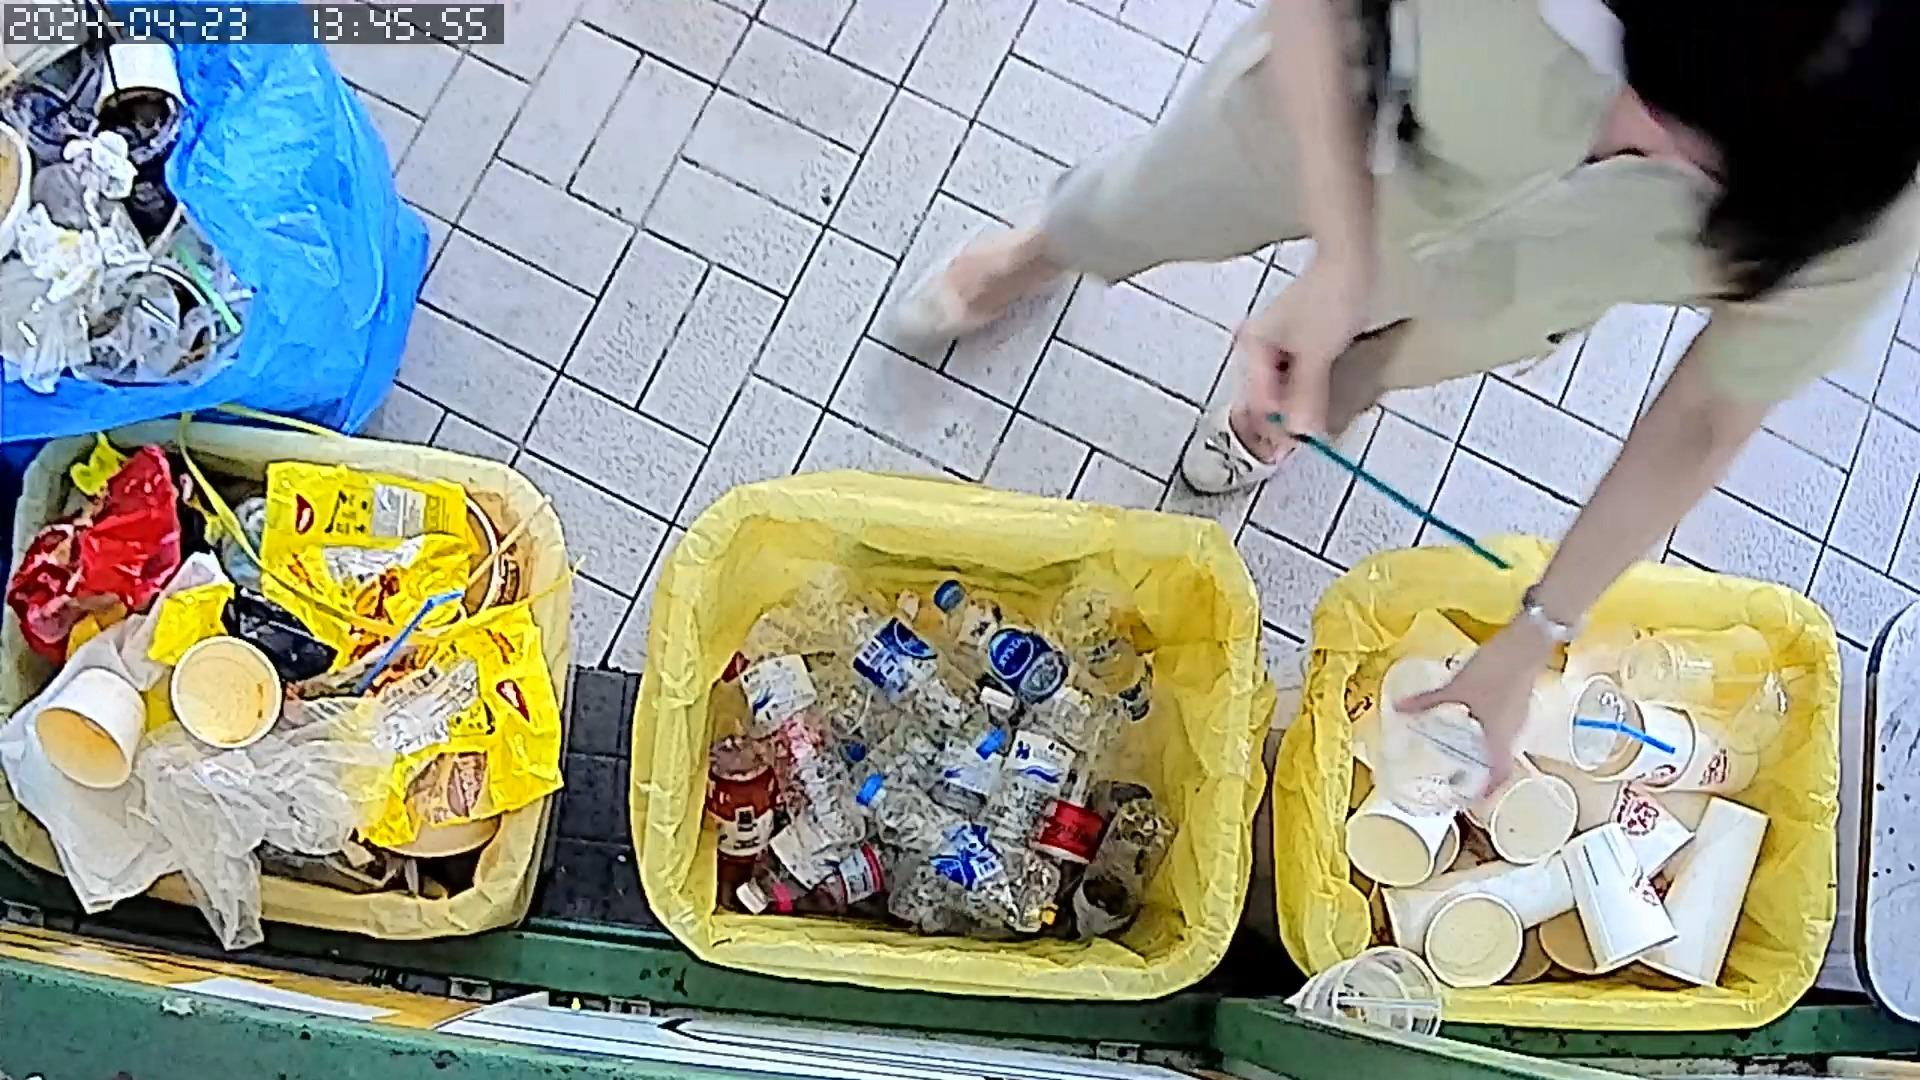can: (703, 735, 779, 876)
food container: (32, 663, 154, 793), (164, 630, 284, 752), (1420, 886, 1527, 989)
plastic bag: (0, 549, 236, 920), (121, 691, 410, 953)
plastic bottle: (778, 553, 1010, 764), (731, 724, 953, 920), (930, 576, 1133, 757), (853, 769, 1064, 938), (951, 676, 1089, 927), (735, 609, 869, 855), (1040, 578, 1156, 729), (1068, 794, 1183, 942)
plastic cup: (1614, 622, 1776, 715), (1712, 667, 1795, 760), (1571, 679, 1638, 778)
snack packaging: (327, 597, 568, 848), (1, 438, 183, 665), (255, 460, 472, 638)
sticks: (471, 488, 555, 587)
straw: (342, 592, 462, 702), (175, 244, 243, 335), (1572, 719, 1677, 754), (1338, 996, 1440, 1013)
tissue paper: (12, 202, 131, 302), (58, 127, 140, 203)
zero waste cup: (1639, 799, 1772, 989), (1559, 818, 1680, 976), (1650, 699, 1762, 798), (1586, 694, 1698, 789)
